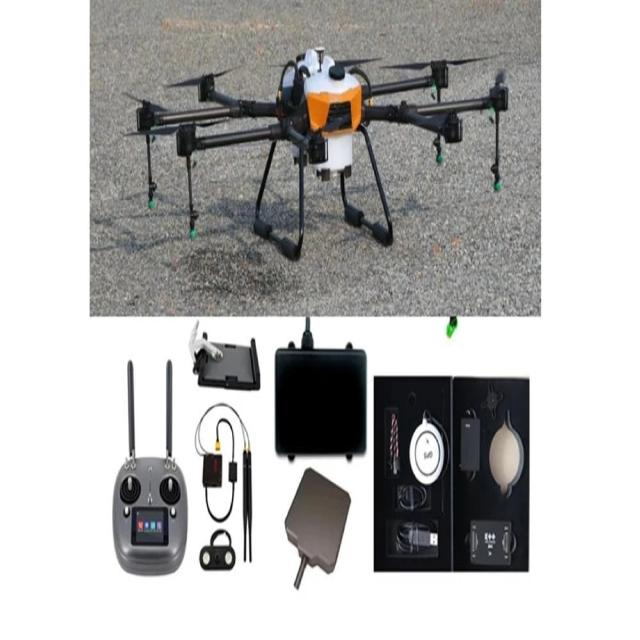drone: (131, 0, 524, 297)
